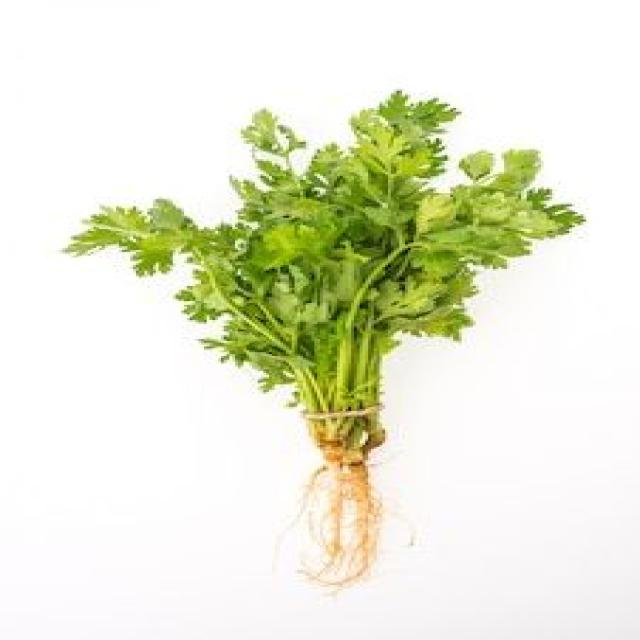Coriander: (0, 68, 567, 599)
